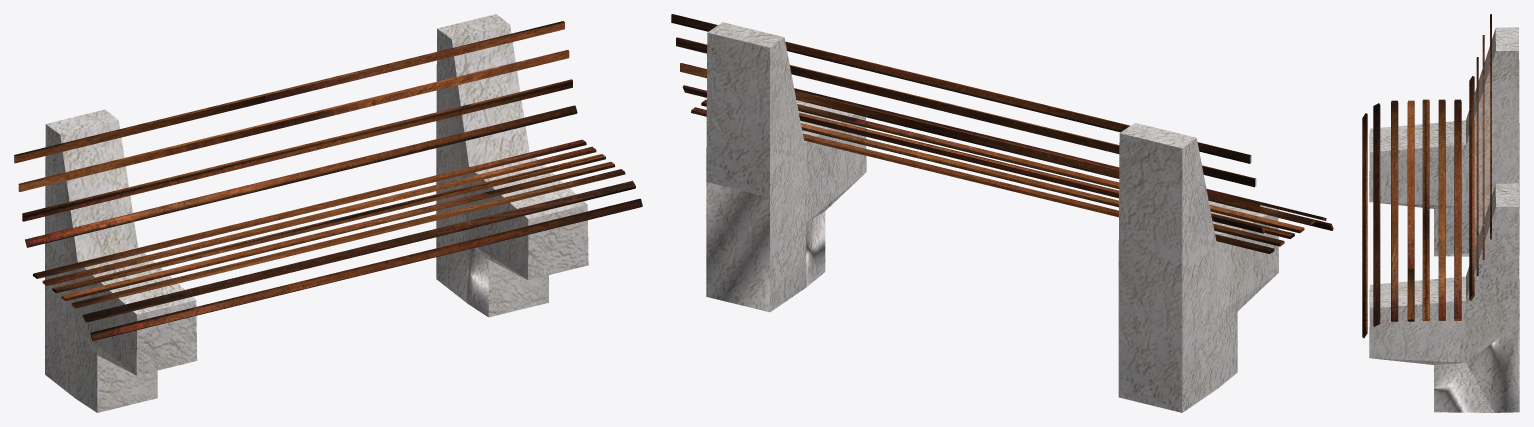
File: bench2_LOD1.FBX
3 views of the same model, side by side, from view 1: azimuth 30°, elevation 25°; view 2: azimuth 150°, elevation 25°; view 3: azimuth 270°, elevation 25° (orthographic). The views are drawn at different scales.
Parts seen in each view (by area): view 1: Law2_L1; view 2: Law2_L1; view 3: Law2_L1.
Part boxes in pixels (x1,y1,x2,y2): Law2_L1: (14,14,642,412); Law2_L1: (671,14,1333,412); Law2_L1: (1362,14,1519,412).
Bounding box in the file's own units: 20.97 × 9.14 × 6.35.
Materials: 1 (1 with a texture image).
